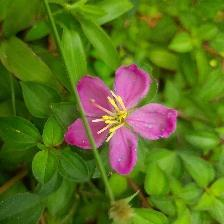malabar melastome: (63, 62, 180, 178)
